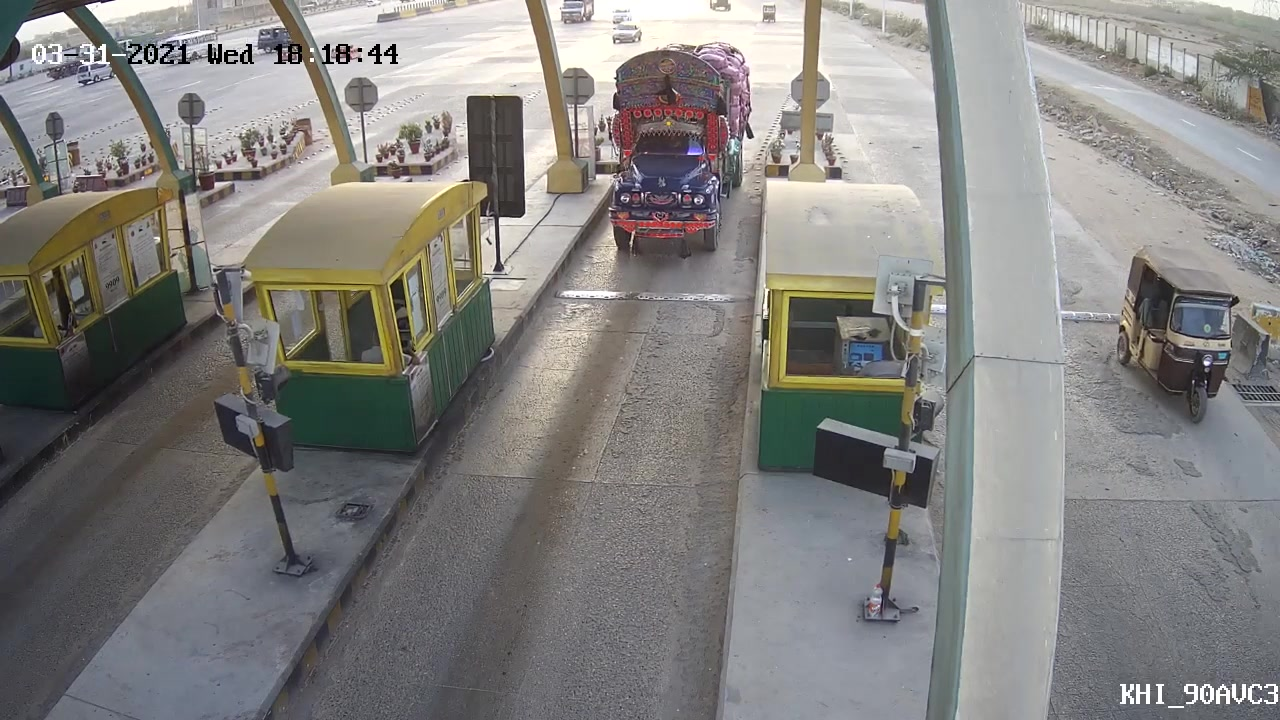F5: (594, 33, 761, 262)
